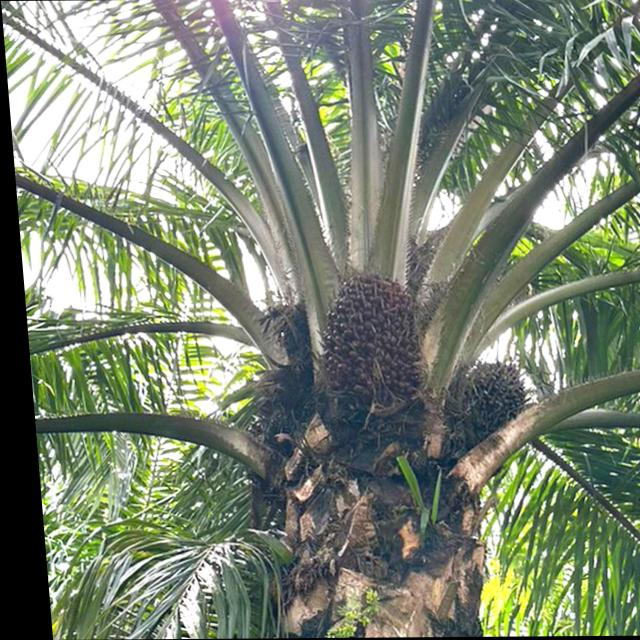ripe: (306, 255, 429, 411)
